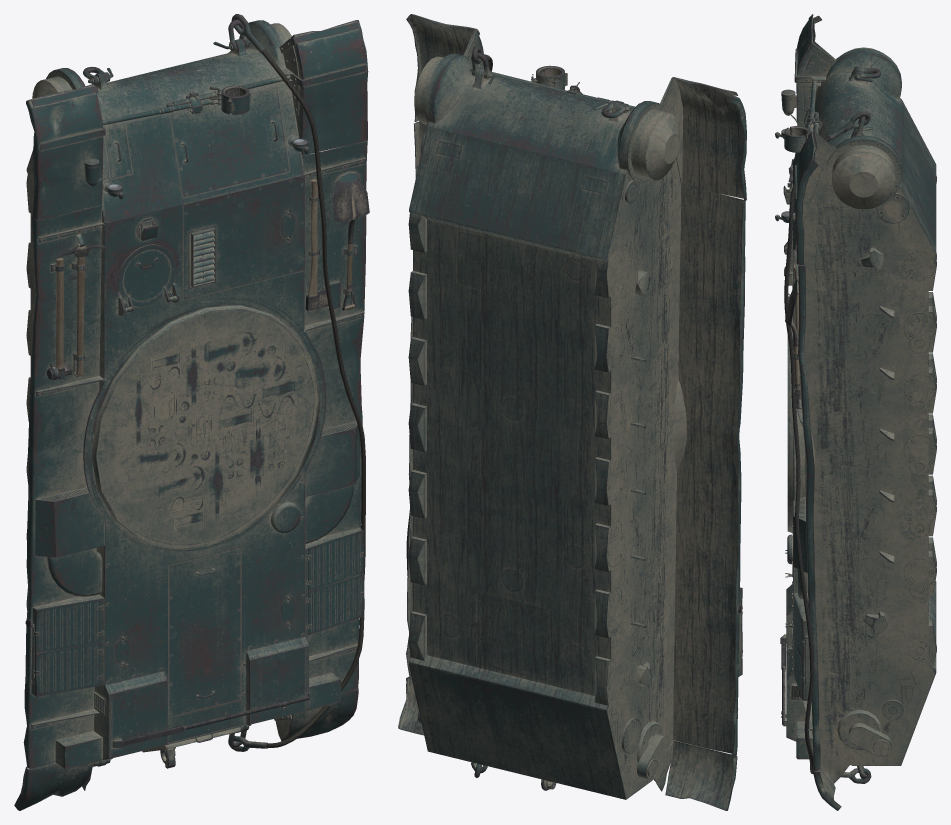
File: Hull.glb
The picture shows the model from 3 angles, left to right: view 1: azimuth 30°, elevation 25°; view 2: azimuth 150°, elevation 25°; view 3: azimuth 270°, elevation 25°; orthographic projection. The views are drawn at different scales.
Parts seen in each view (by area): view 1: set_0_group_0; view 2: set_0_group_0; view 3: set_0_group_0.
Boxes of the visible parts, x1,y1,x2,y2 form: set_0_group_0: (14, 14, 369, 810); set_0_group_0: (398, 14, 746, 810); set_0_group_0: (775, 14, 936, 810).
Bounding box in the file's own units: 2.46 × 5.13 × 1.12.
1 material, 1 textured.
